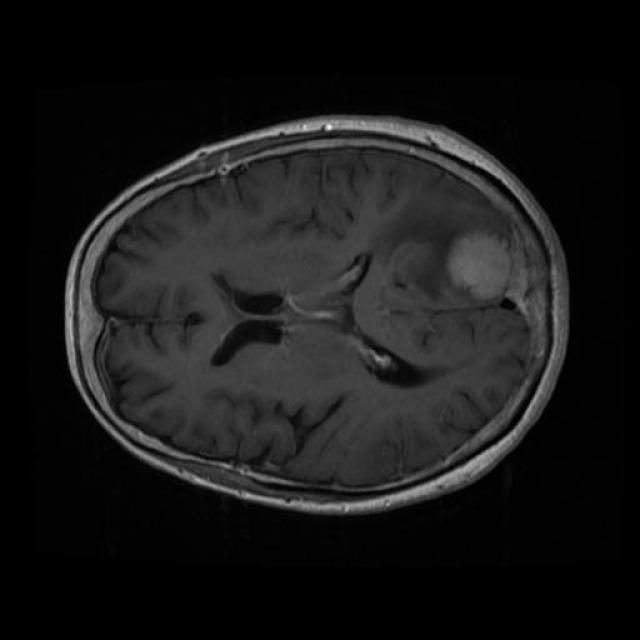Meningioma: (447, 232, 511, 298)
